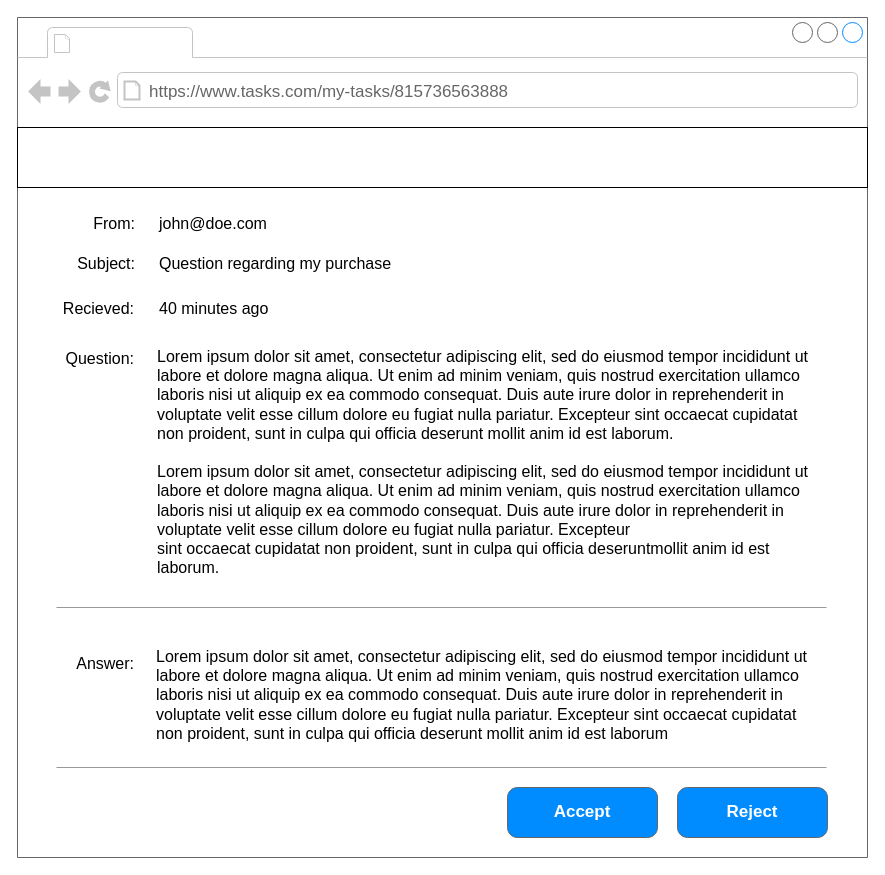
This 885x875 diagram has some shape labels left out. The shapes that lost their labels are listed below. From the top down, each one's box as (x1, y1, x2, y2) in pixels, then its label:
(76, 30, 188, 56): My task - rev
(16, 126, 868, 188): My task - Review answer
